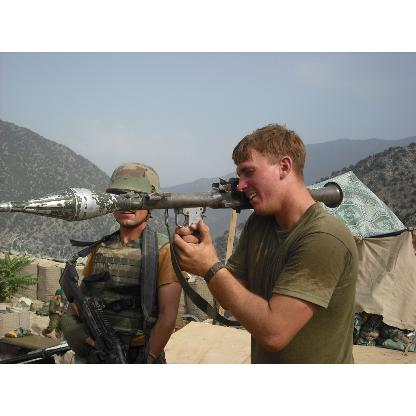gun: (0, 179, 343, 238)
